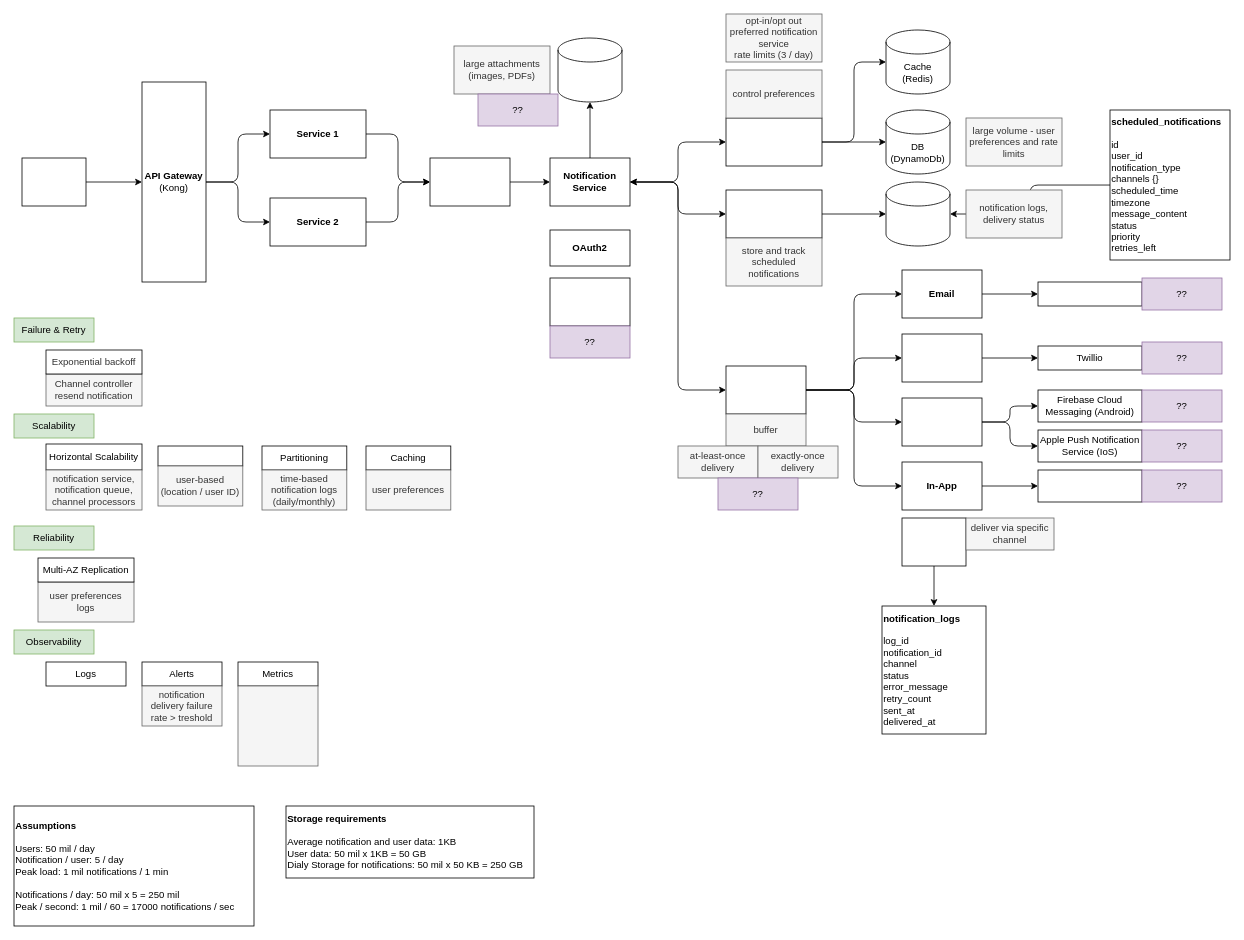
This 1244x940 diagram has some shape labels left out. The centre of each missing label's shape, as x and y in pixels:
"ALB (Application Load Balancer)" belongs at (x=469, y=181).
"Blob Storage (S3)" belongs at (x=589, y=69).
"Channel Processors" belongs at (x=933, y=541).
"Client" belongs at (x=53, y=181).
"DB (PostgreSQL)" belongs at (x=917, y=213).
"Notification Queue (Kafka)" belongs at (x=765, y=389).
"Push" belongs at (x=941, y=421).
"RBAC (Role-Based Access Control)" belongs at (x=589, y=301).
"Scheduler Service" belongs at (x=773, y=213).
"SendGrid" belongs at (x=1089, y=293).
"Sharding" belongs at (x=200, y=455).
"SMS" belongs at (x=941, y=357).
"success rate failure rate delivery latency throughput per channel" belongs at (x=277, y=725).
"User Preference Service" belongs at (x=773, y=141).
"WebSockets" belongs at (x=1089, y=485).
